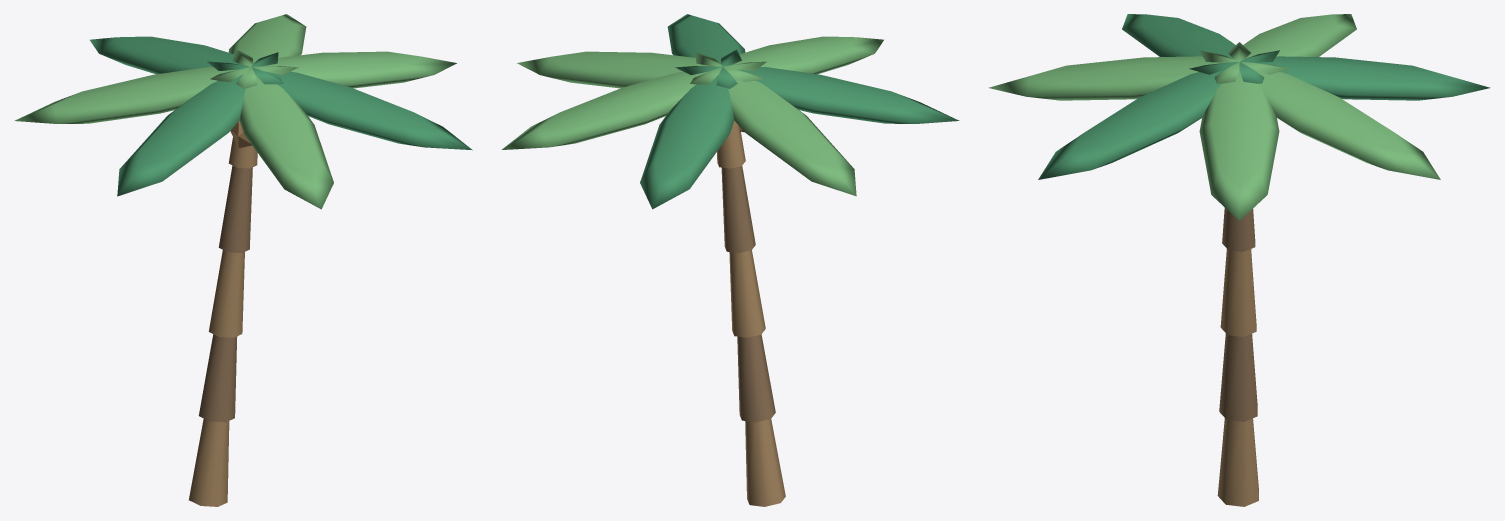
The model's file is ocean-scenery-32.glb.
3 views of the same model, side by side, from view 1: azimuth 30°, elevation 25°; view 2: azimuth 150°, elevation 25°; view 3: azimuth 270°, elevation 25° (orthographic). The views are drawn at different scales.
Parts seen in each view (by area): view 1: Pearlrest island palm; view 2: Pearlrest island palm; view 3: Pearlrest island palm.
Part boxes in pixels (bbox=[...]): Pearlrest island palm: bbox=[14, 14, 472, 506]; Pearlrest island palm: bbox=[502, 14, 959, 506]; Pearlrest island palm: bbox=[988, 14, 1490, 506].
Size of the model in its own units: 4.05 by 4.19 by 4.16.
